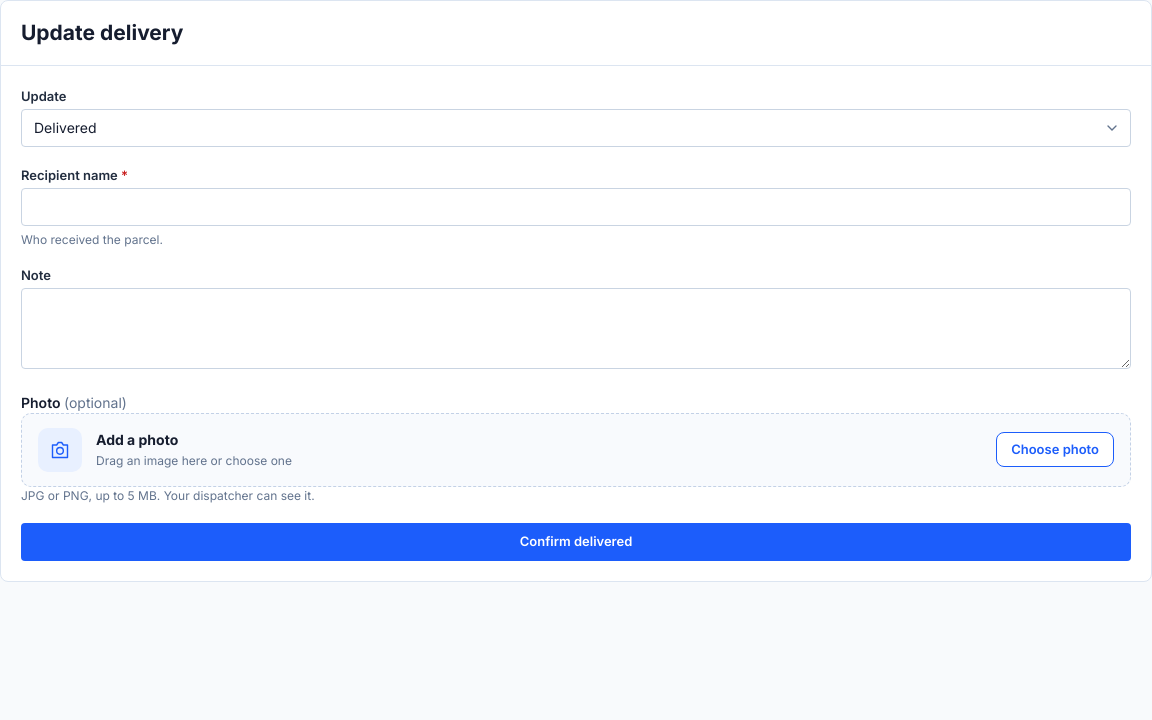
Scenario: delivery proof form › keeps pending proof locked and does not announce successful delivery
The width and height of the screenshot is (1152, 720).
In the field labelled "Recipient name *": (576, 206) [21,188,1131,226], type "Amal"
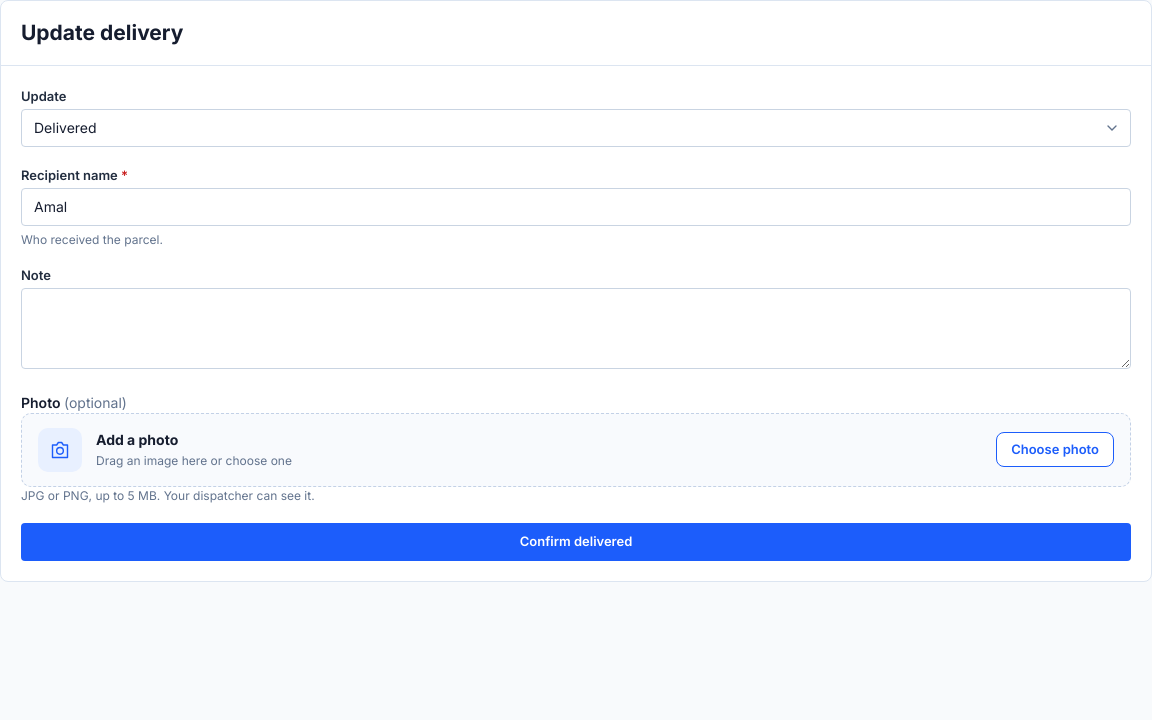
Click the button "Confirm delivered": (576, 542) [21,522,1131,560]
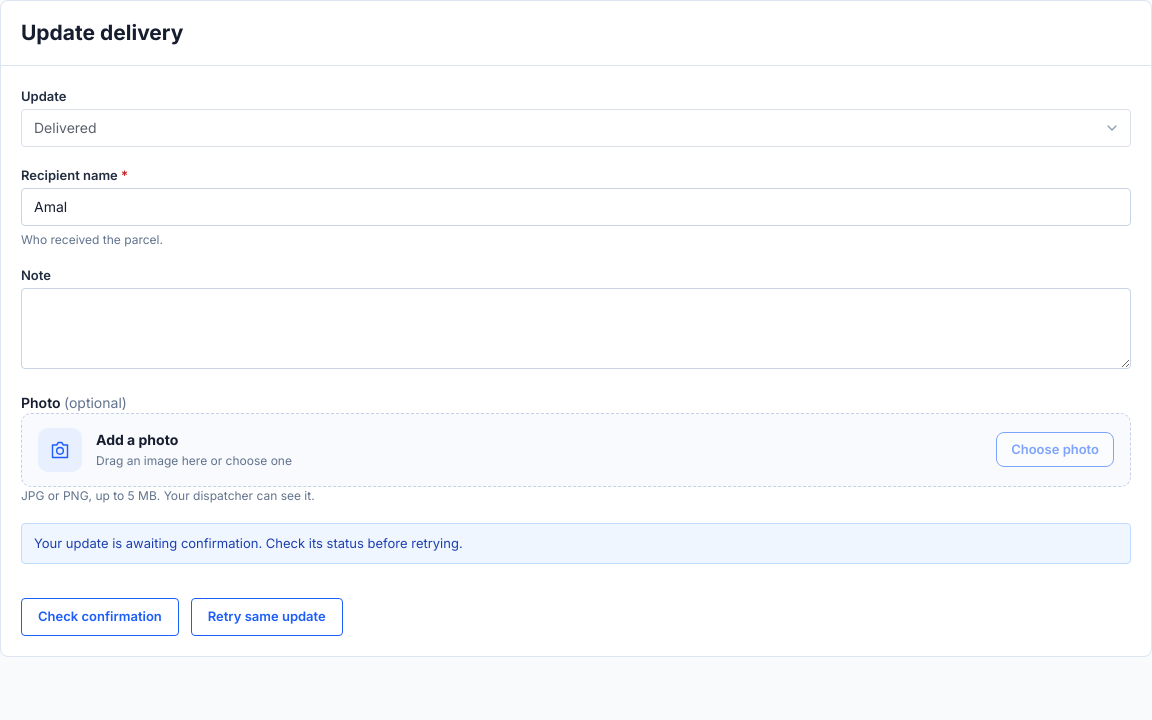
Expected: the field labelled "Recipient name *" is disabled, [21,188,1131,226]
Now the button "Check confirmation" is shown, box [21,598,179,636]
